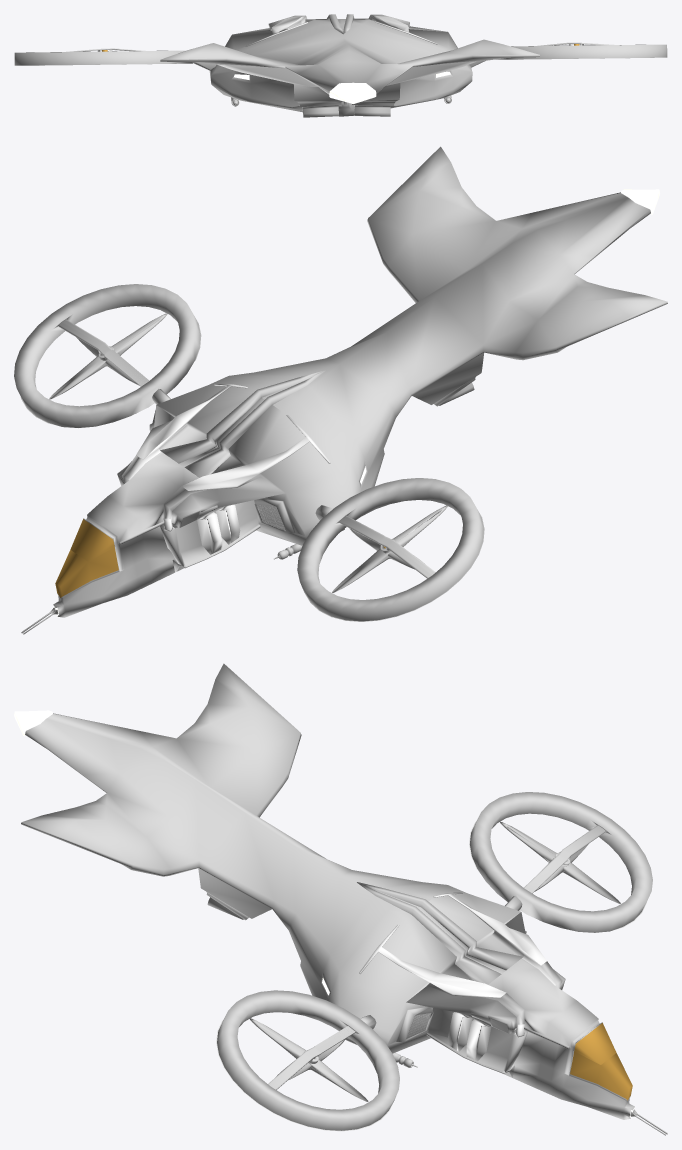
File: drone.glb
3 views of the same model, one above another, from view 1: azimuth 30°, elevation 25°; view 2: azimuth 150°, elevation 25°; view 3: azimuth 270°, elevation 25° (orthographic). The views are drawn at different scales.
Parts seen in each view (by area): view 1: DRONE_primitive0, DRONE_primitive3, DRONE_primitive2; view 2: DRONE_primitive0, DRONE_primitive3, DRONE_primitive1, BLADES_primitive0; view 3: DRONE_primitive0, DRONE_primitive3, DRONE_primitive1, BLADES_primitive0.
Part boxes in pixels (bbox=[...]): DRONE_primitive0: bbox=[14, 14, 667, 117]; DRONE_primitive3: bbox=[245, 14, 437, 46]; DRONE_primitive2: bbox=[109, 50, 450, 103]; DRONE_primitive0: bbox=[14, 146, 667, 634]; DRONE_primitive3: bbox=[122, 384, 330, 554]; DRONE_primitive1: bbox=[55, 519, 385, 597]; BLADES_primitive0: bbox=[58, 317, 160, 395]; DRONE_primitive0: bbox=[21, 663, 667, 1135]; DRONE_primitive3: bbox=[359, 892, 561, 1061]; DRONE_primitive1: bbox=[570, 1023, 632, 1100]; BLADES_primitive0: bbox=[256, 1021, 359, 1098].
Bounding box in the file's own units: 23.42 × 10.37 × 22.2.
